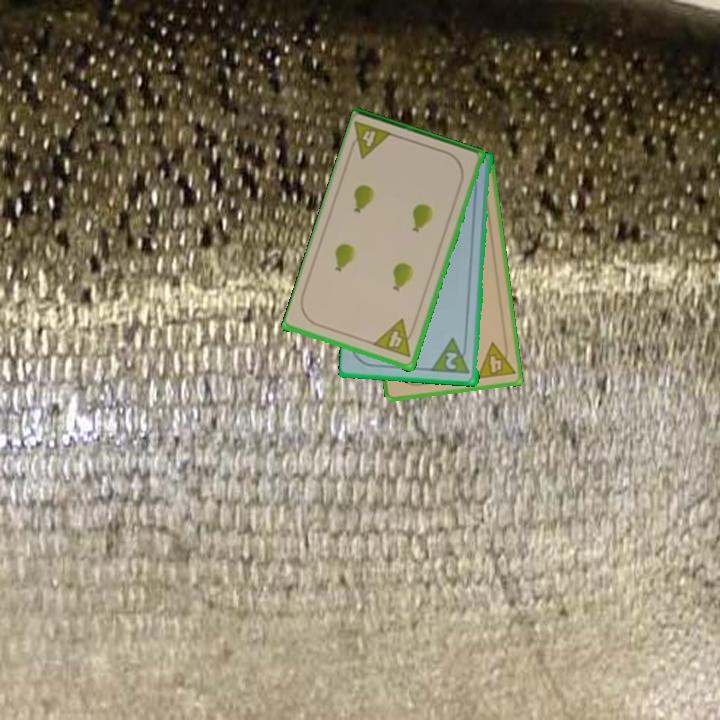2p: (430, 335, 473, 377)
4p: (345, 118, 397, 162), (371, 316, 419, 360), (473, 337, 518, 382)
